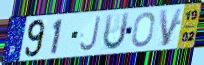1: (50, 18, 65, 57)
9: (23, 18, 48, 59)
J: (78, 14, 102, 53)
O: (130, 11, 156, 49)
U: (101, 11, 131, 52)
V: (159, 7, 185, 49)
